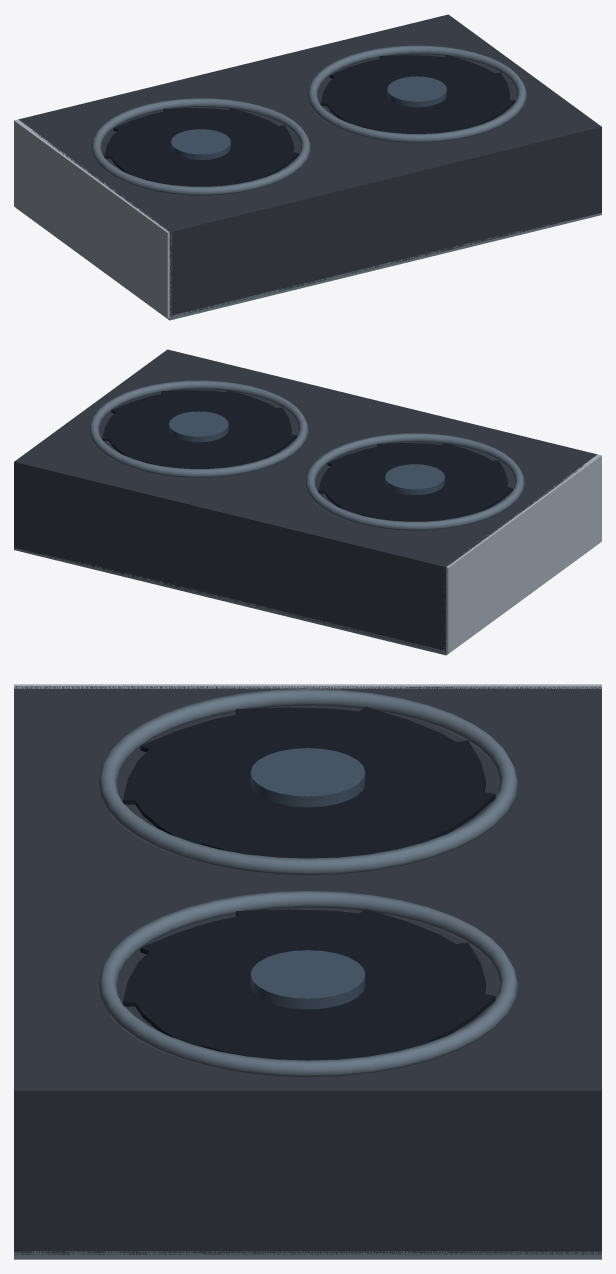
File: retail-asus-dual-geforce-rtx-3060-v2-oc-edition.glb
3 renders of one model, top to bottom at view 1: azimuth 30°, elevation 25°; view 2: azimuth 150°, elevation 25°; view 3: azimuth 270°, elevation 25°, orthographic. The views are drawn at different scales.
Parts seen in each view (by area): view 1: Cooler shroud, Cooler blade (×18), Bracket, Fan rim (×2), Fan hub (×2), Backplate; view 2: Cooler shroud, Cooler blade (×18), Bracket, Fan rim (×2), Fan hub (×2), Backplate; view 3: Cooler shroud, Cooler blade (×18), Fan rim (×2), Fan hub (×2), Backplate, Bracket.
Part boxes in pixels (x1,y1,x2,y2): Cooler shroud: (18, 14, 601, 317); Cooler blade (×18): (104, 55, 515, 186); Bracket: (14, 119, 171, 318); Fan rim (×2): (91, 45, 526, 195); Fan hub (×2): (171, 76, 446, 159); Backplate: (18, 209, 601, 320); Cooler shroud: (14, 349, 597, 652); Cooler blade (×18): (102, 390, 512, 521); Bracket: (444, 454, 601, 653); Fan rim (×2): (89, 380, 524, 530); Fan hub (×2): (169, 411, 444, 494); Backplate: (14, 544, 597, 655); Cooler shroud: (14, 686, 601, 1255); Cooler blade (×18): (122, 707, 495, 1060); Fan rim (×2): (97, 688, 518, 1077); Fan hub (×2): (250, 748, 365, 1009); Backplate: (14, 1251, 601, 1259); Bracket: (14, 684, 601, 688).
Bounding box in the file's own units: 0.201 × 0.0425 × 0.123.
